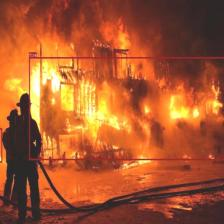fire: (28, 57, 224, 160)
